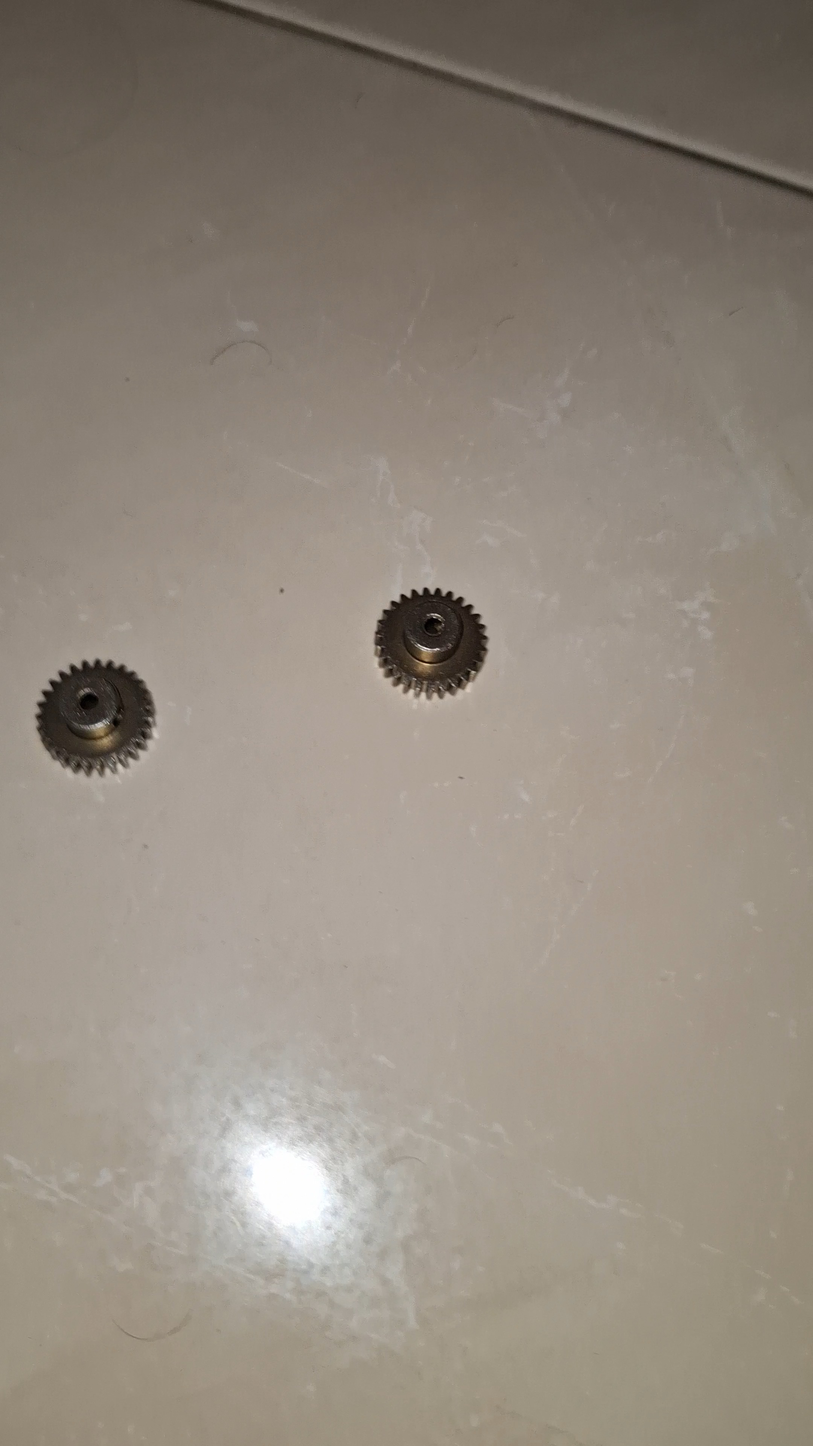spur gear: (37, 659, 154, 773), (376, 588, 487, 695)
